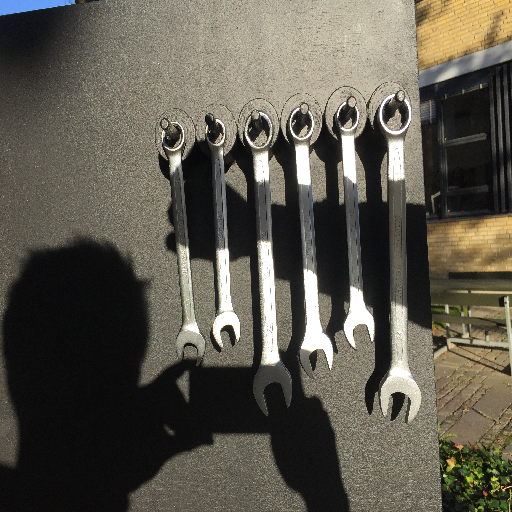bottom: (377, 366, 423, 426), (250, 362, 296, 418), (298, 330, 335, 381), (173, 326, 208, 370), (343, 307, 378, 350), (211, 310, 243, 350)
top: (376, 94, 414, 139), (242, 109, 276, 153), (286, 105, 317, 146), (158, 119, 189, 155), (332, 101, 361, 137), (203, 119, 228, 149)
